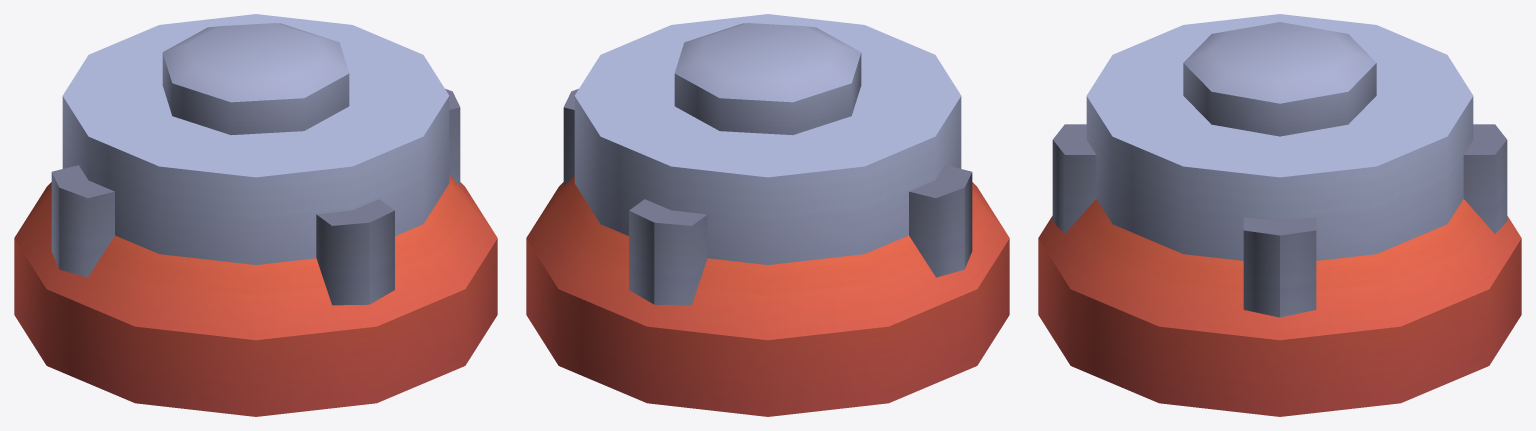
The model's file is tower-round-bottom-a.glb.
3 views of the same model, side by side, from view 1: azimuth 30°, elevation 25°; view 2: azimuth 150°, elevation 25°; view 3: azimuth 270°, elevation 25° (orthographic).
Parts seen in each view (by area): view 1: tower-round-bottom-a; view 2: tower-round-bottom-a; view 3: tower-round-bottom-a.
Part boxes in pixels (x1,y1,x2,y2): tower-round-bottom-a: [14, 14, 497, 416]; tower-round-bottom-a: [526, 14, 1009, 416]; tower-round-bottom-a: [1038, 14, 1521, 416].
Bounding box in the file's own units: 1 × 0.6001 × 1.
Materials: 1 (1 with a texture image).
